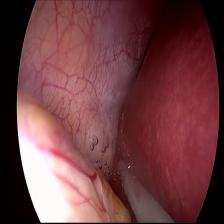Irrigator: (115, 157, 137, 193)
